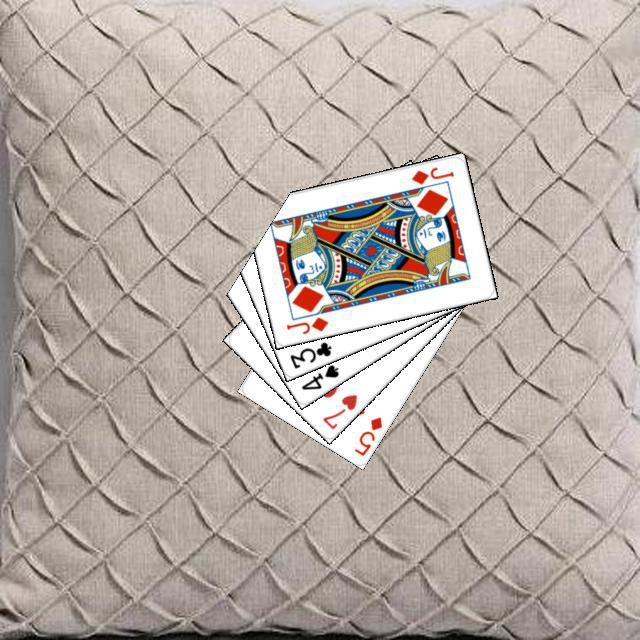3c: (285, 337, 334, 370)
4s: (296, 359, 341, 392)
5d: (349, 412, 384, 457)
7h: (317, 389, 359, 431)
Jd: (281, 312, 330, 336), (406, 162, 455, 186)
